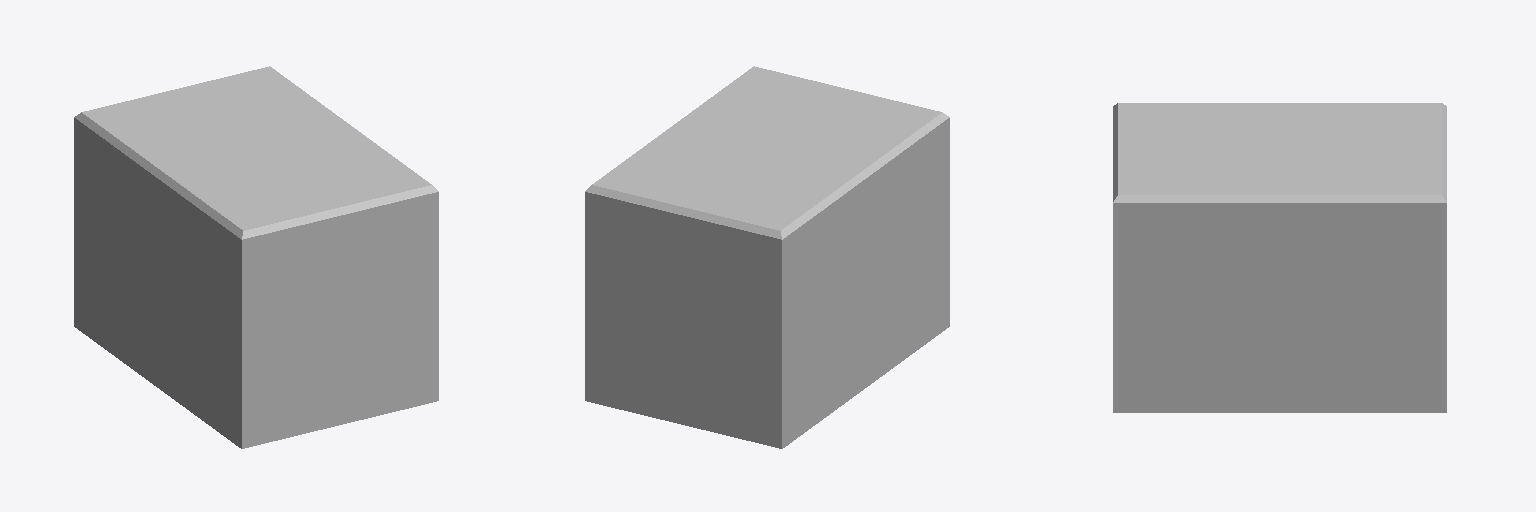
File: parcel.obj
3 renders of one model, left to right at view 1: azimuth 30°, elevation 25°; view 2: azimuth 150°, elevation 25°; view 3: azimuth 270°, elevation 25°, orthographic.
Parts seen in each view (by area): view 1: Cube.015; view 2: Cube.015; view 3: Cube.015.
Boxes of the visible parts, <box> form: Cube.015: <box>74,66,438,448</box>; Cube.015: <box>585,66,949,448</box>; Cube.015: <box>1113,103,1446,412</box>.
Bounding box in the file's own units: 0.3973 × 0.4117 × 0.5779.